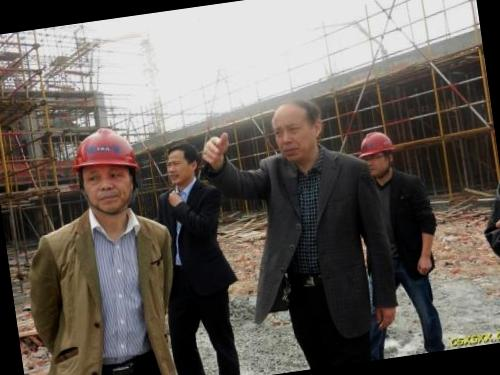no_helmet: (263, 90, 328, 166), (162, 138, 203, 189)
